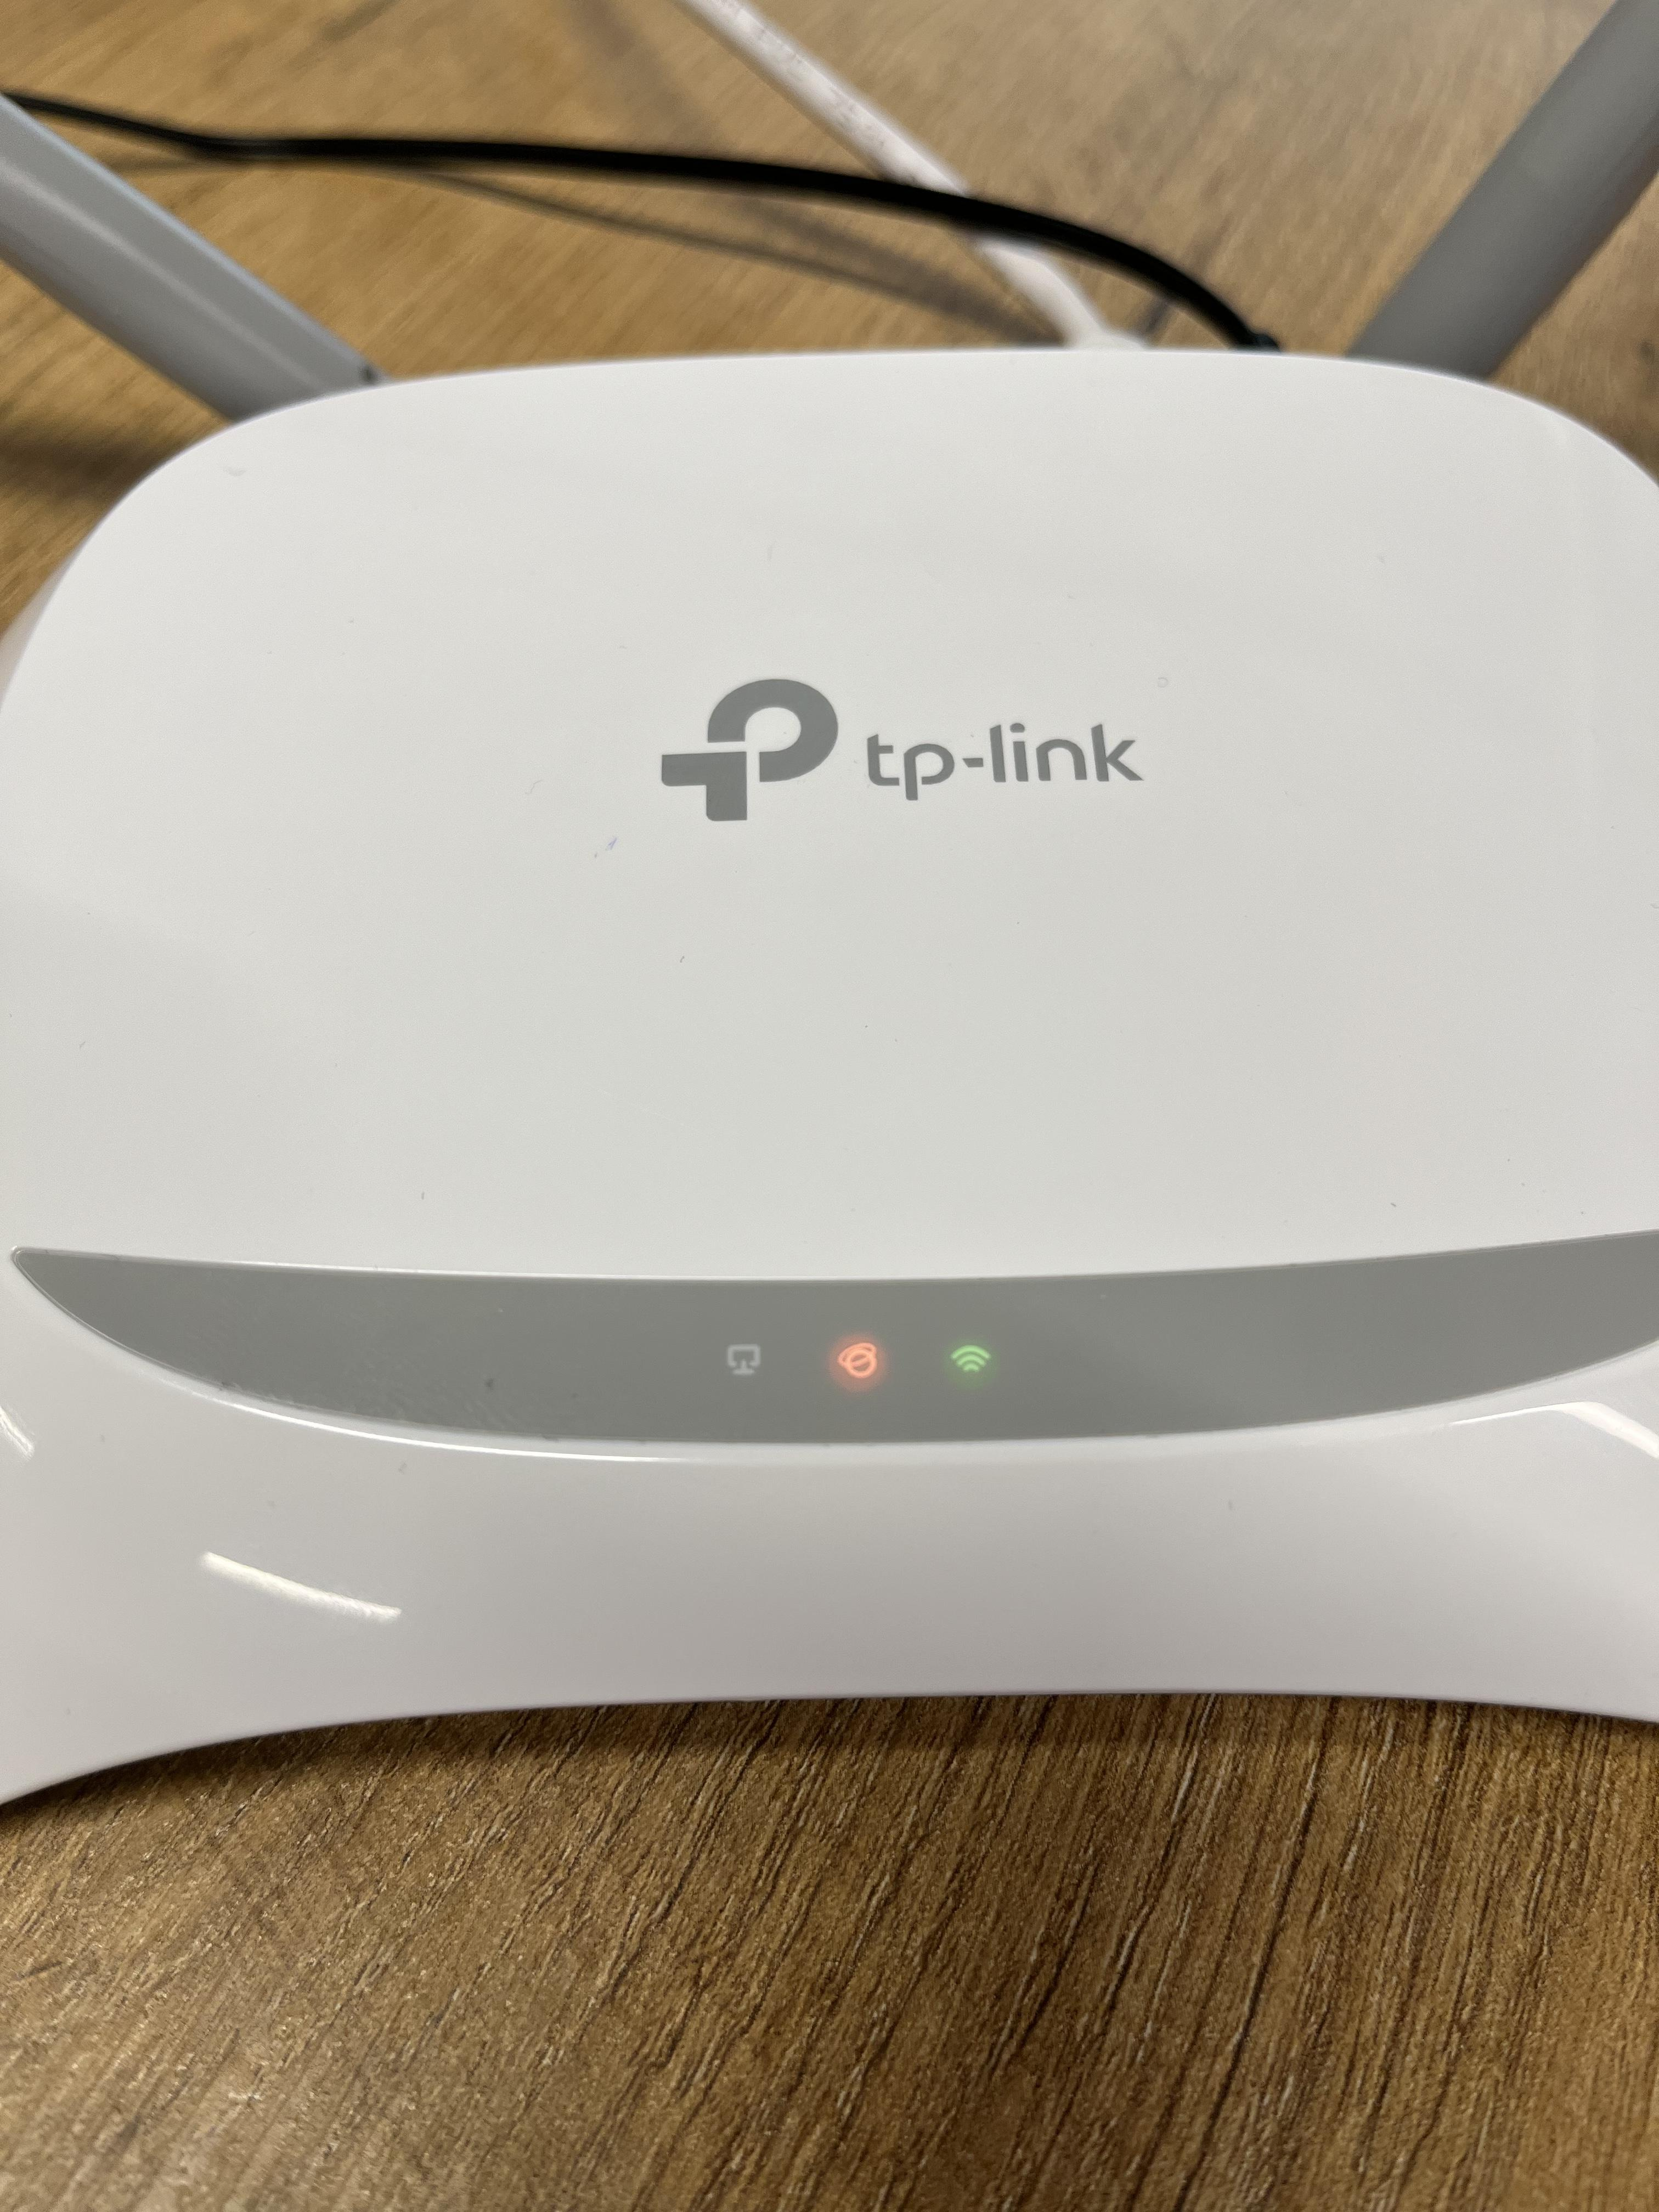router: (21, 336, 1659, 1818)
